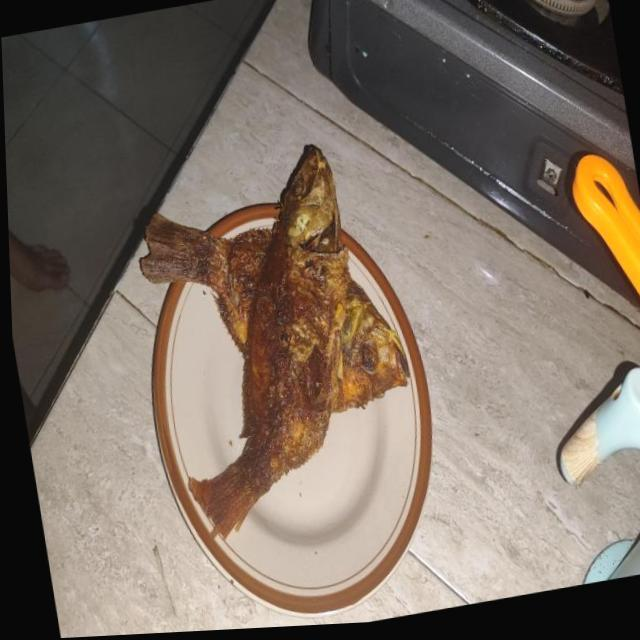ikan_mujair: (188, 145, 348, 540), (139, 213, 409, 414)
